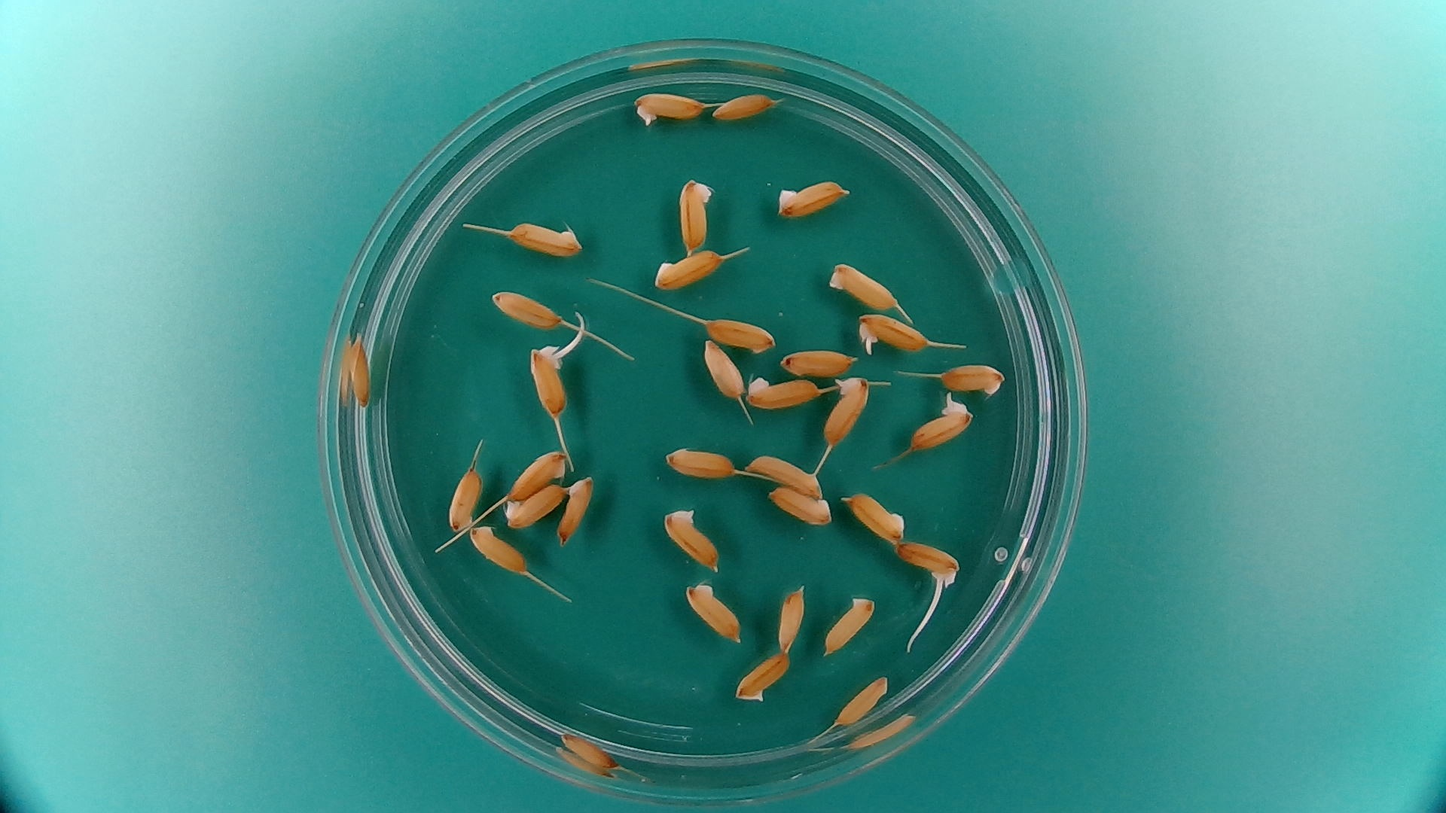no: (682, 579, 746, 644), (825, 259, 902, 312), (821, 592, 877, 658), (840, 489, 908, 543), (487, 286, 568, 331), (503, 446, 569, 501), (743, 450, 825, 494), (771, 176, 851, 220), (651, 245, 725, 292), (830, 671, 890, 728), (500, 480, 569, 529), (505, 217, 585, 259), (467, 524, 529, 577), (733, 648, 792, 703), (444, 462, 486, 538), (676, 175, 716, 254), (743, 372, 822, 410), (702, 313, 777, 353), (555, 473, 595, 547), (766, 483, 833, 526), (662, 443, 738, 480), (701, 338, 746, 400), (778, 344, 859, 378), (937, 360, 1007, 397), (557, 728, 620, 769), (709, 87, 779, 123), (773, 581, 807, 653), (348, 336, 374, 410)
yes: (528, 344, 587, 420), (660, 505, 724, 573), (905, 392, 976, 452), (891, 537, 963, 593), (820, 373, 874, 447), (855, 309, 932, 355), (630, 87, 707, 127)
